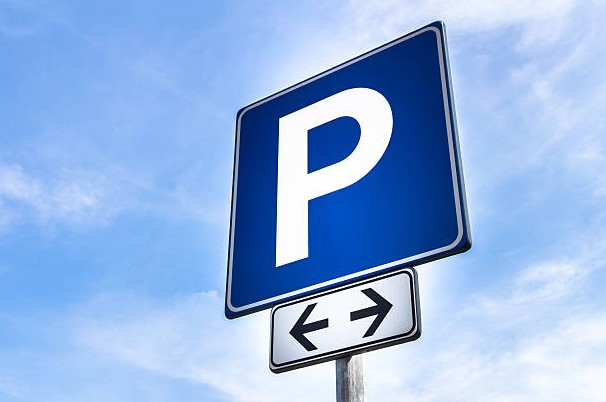Parking: (211, 18, 475, 282)
